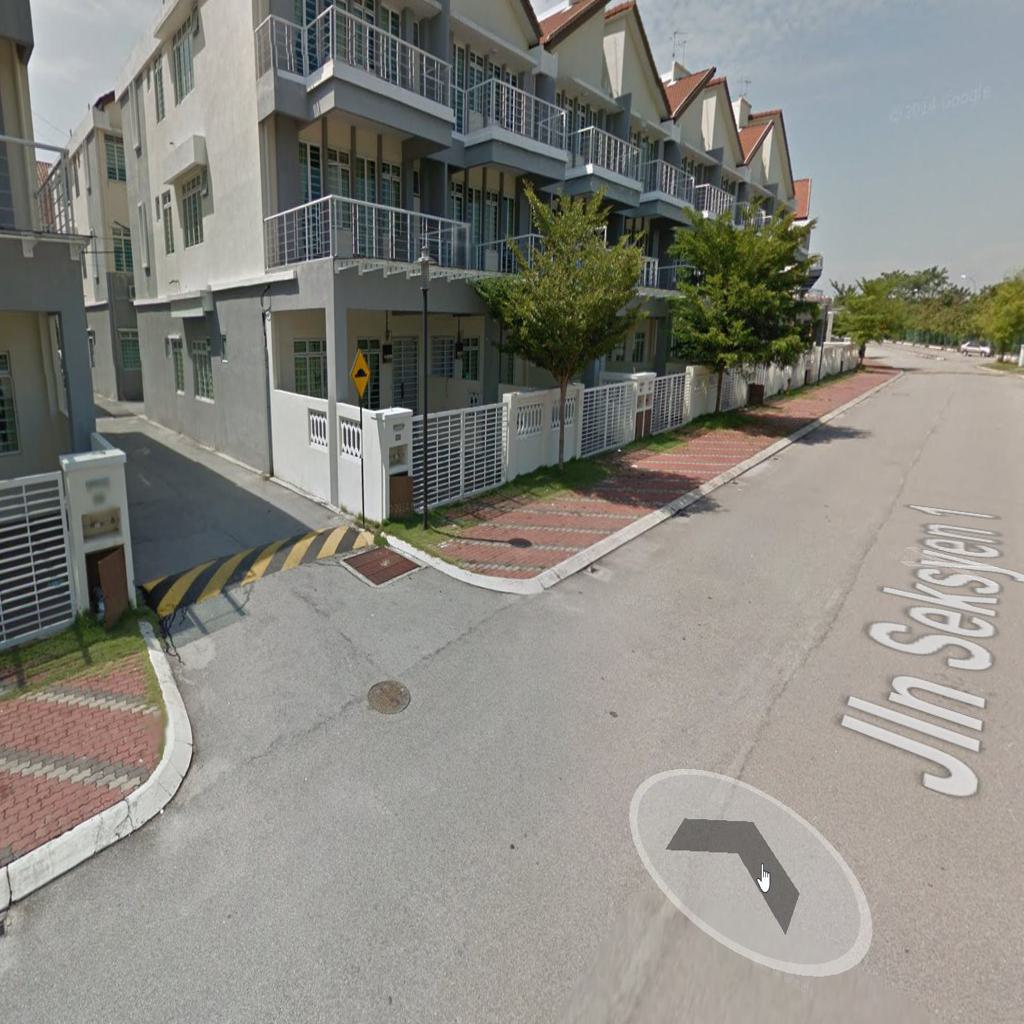Junction: (133, 458, 550, 817)
